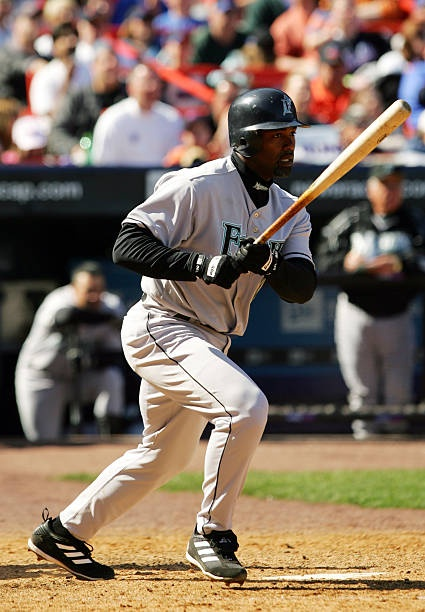bita: (255, 100, 407, 245)
